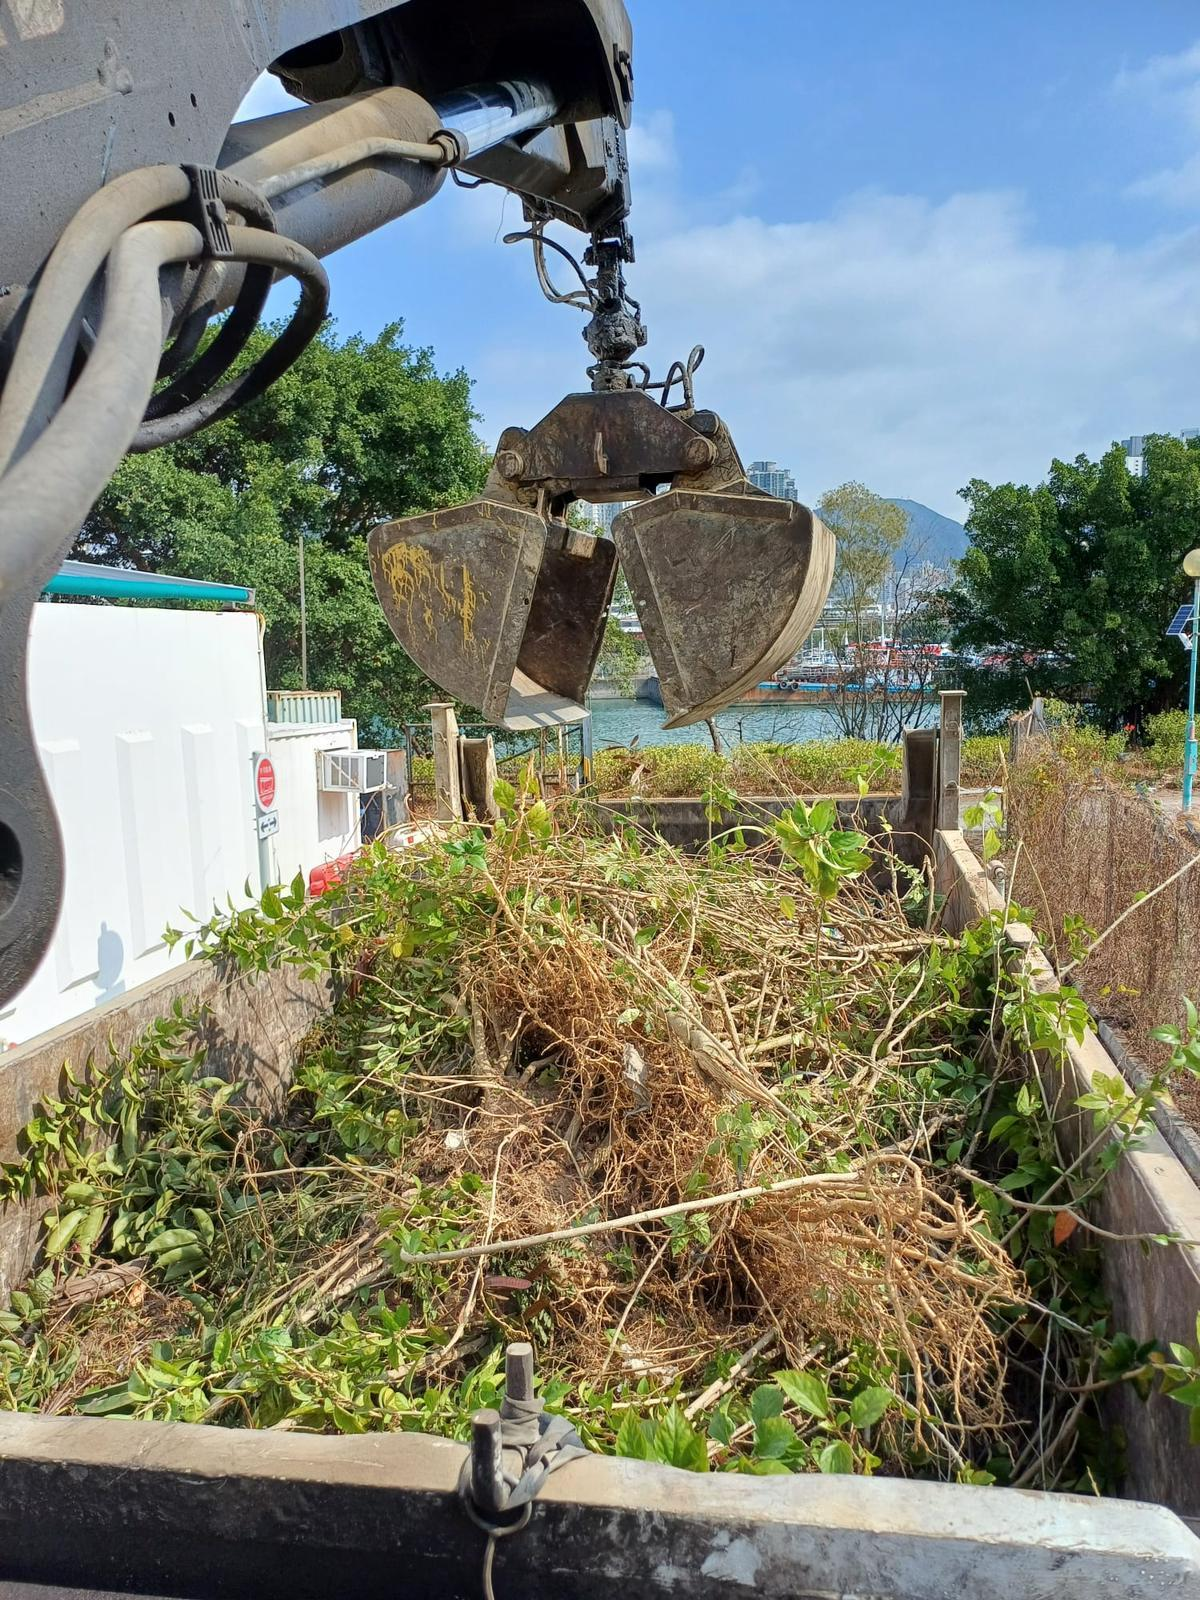wood: (0, 791, 1144, 1489)
